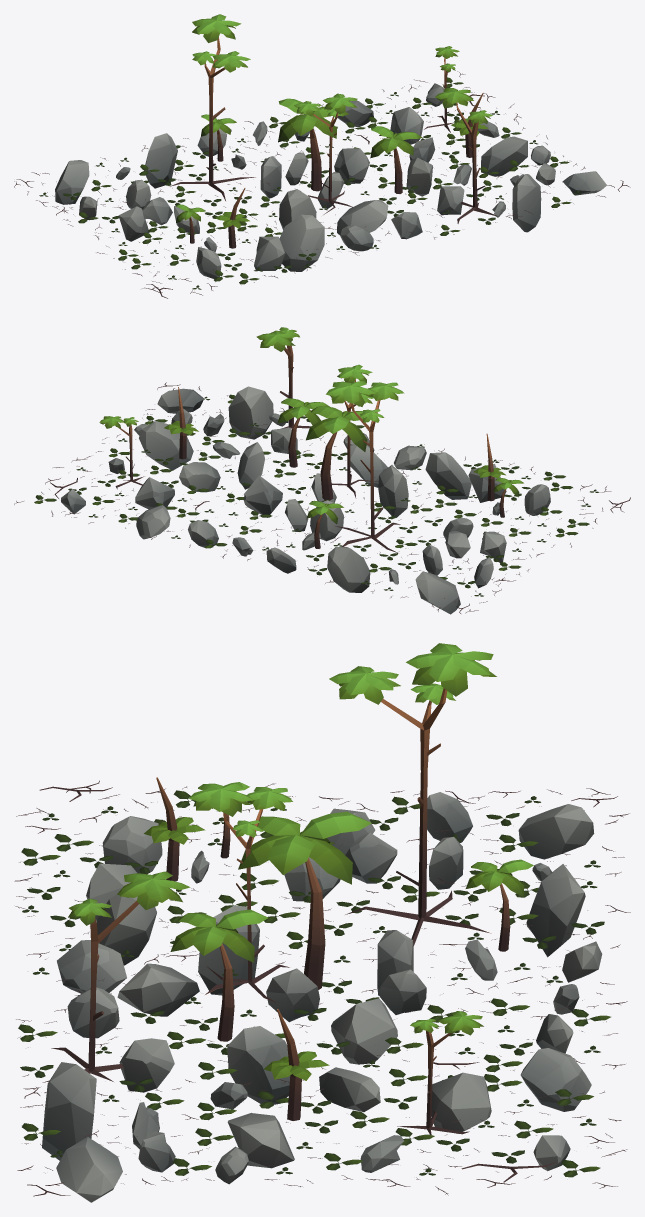
Rendered from SM_Nature_Props_Scatter.fbx.
The picture shows the model from 3 angles, top to bottom: view 1: azimuth 30°, elevation 25°; view 2: azimuth 150°, elevation 25°; view 3: azimuth 270°, elevation 25°; orthographic projection. The views are drawn at different scales.
Visible parts, largest first — view 1: SM_Nature_Props_Scatter; view 2: SM_Nature_Props_Scatter; view 3: SM_Nature_Props_Scatter.
Boxes of the visible parts, x1,y1,x2,y2 form: SM_Nature_Props_Scatter: (14,14,630,298); SM_Nature_Props_Scatter: (14,327,630,614); SM_Nature_Props_Scatter: (14,643,630,1202).
Size of the model in its own units: 15 by 5.53 by 9.4.
